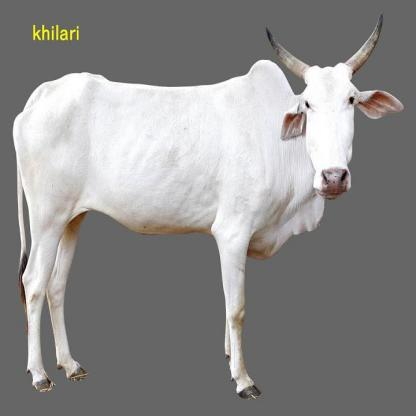cow: (13, 13, 404, 400)
